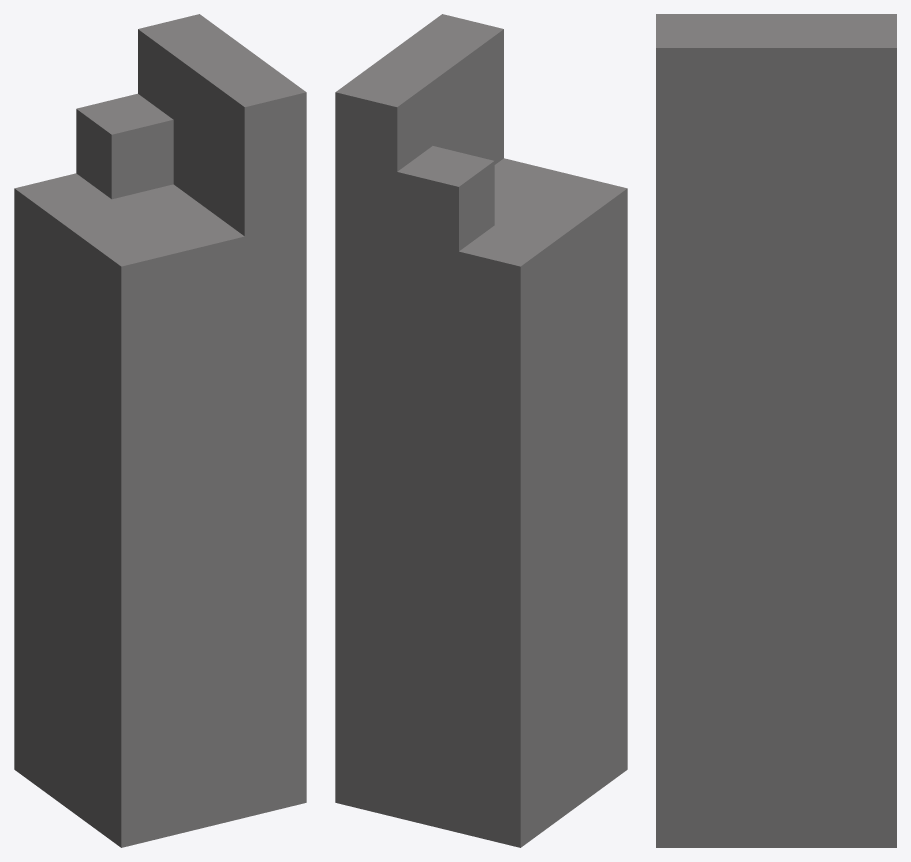
Rendered from wolf__leg_fl.glb.
The picture shows the model from 3 angles, left to right: view 1: azimuth 30°, elevation 25°; view 2: azimuth 150°, elevation 25°; view 3: azimuth 270°, elevation 25°; orthographic projection. The views are drawn at different scales.
Visible parts, largest first — view 1: wolf__leg_fl; view 2: wolf__leg_fl; view 3: wolf__leg_fl.
Boxes of the visible parts, box(x1,y1,x2,y2) form: wolf__leg_fl: box(14, 14, 306, 847); wolf__leg_fl: box(335, 14, 627, 847); wolf__leg_fl: box(656, 14, 896, 847).
Size of the model in its own units: 0.3 by 1.1 by 0.3.
1 material, 1 textured.
